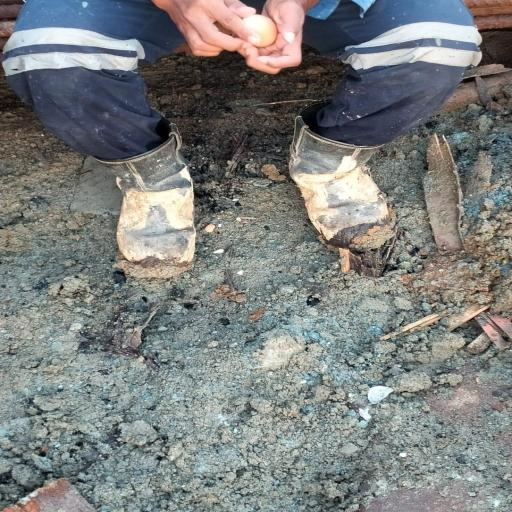safety_shoe: (71, 134, 204, 276), (275, 121, 404, 251)
